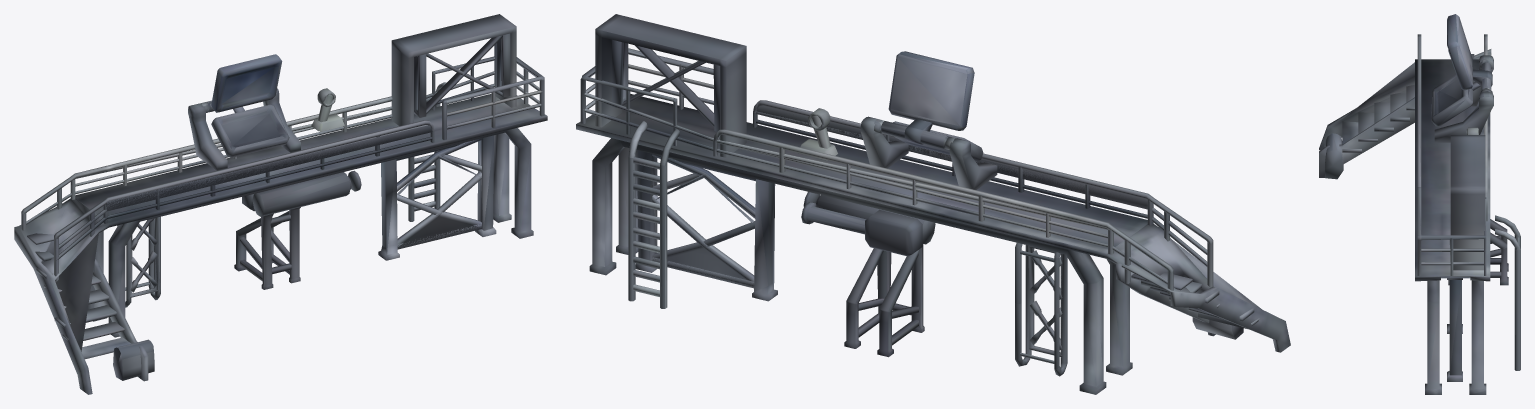
Rendered from 整備庫_03_輸送架.glb.
3 views of the same model, side by side, from view 1: azimuth 30°, elevation 25°; view 2: azimuth 150°, elevation 25°; view 3: azimuth 270°, elevation 25° (orthographic). The views are drawn at different scales.
Visible parts, largest first — view 1: 03_輸送架; view 2: 03_輸送架; view 3: 03_輸送架.
Boxes of the visible parts, x1=… form: 03_輸送架: x1=14, y1=14, x2=547, y2=394; 03_輸送架: x1=576, y1=14, x2=1290, y2=394; 03_輸送架: x1=1319, y1=14, x2=1520, y2=394.
Bounding box in the file's own units: 0.2358 × 0.1021 × 0.0801.
Materials: 1 (1 with a texture image).
